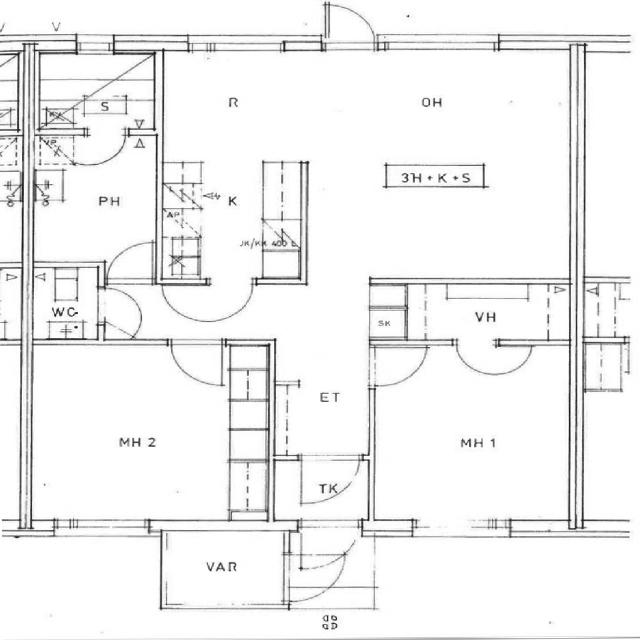door: (301, 519, 358, 576), (283, 555, 348, 601), (301, 455, 359, 506), (326, 0, 374, 50), (170, 339, 222, 385), (368, 348, 422, 386), (107, 242, 153, 284), (209, 279, 253, 319), (98, 288, 147, 322), (455, 340, 496, 377), (87, 128, 126, 166)
